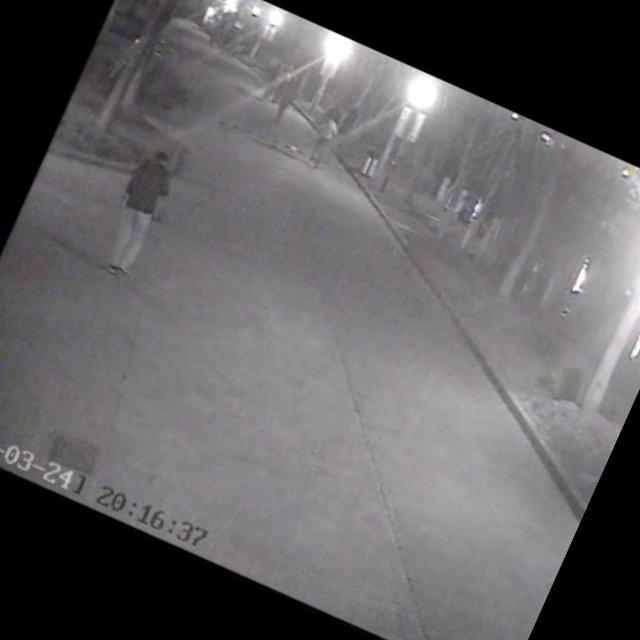person: (82, 132, 191, 276), (296, 104, 356, 176), (257, 64, 311, 128)
